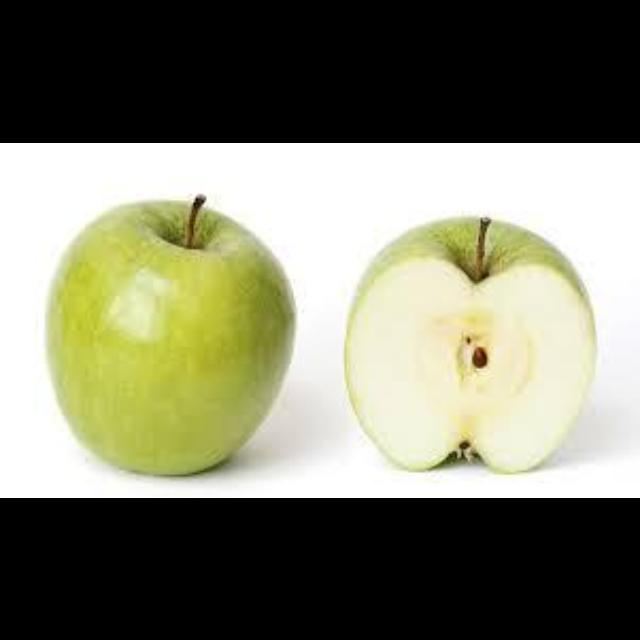apple: (47, 193, 293, 472), (344, 216, 593, 469)
